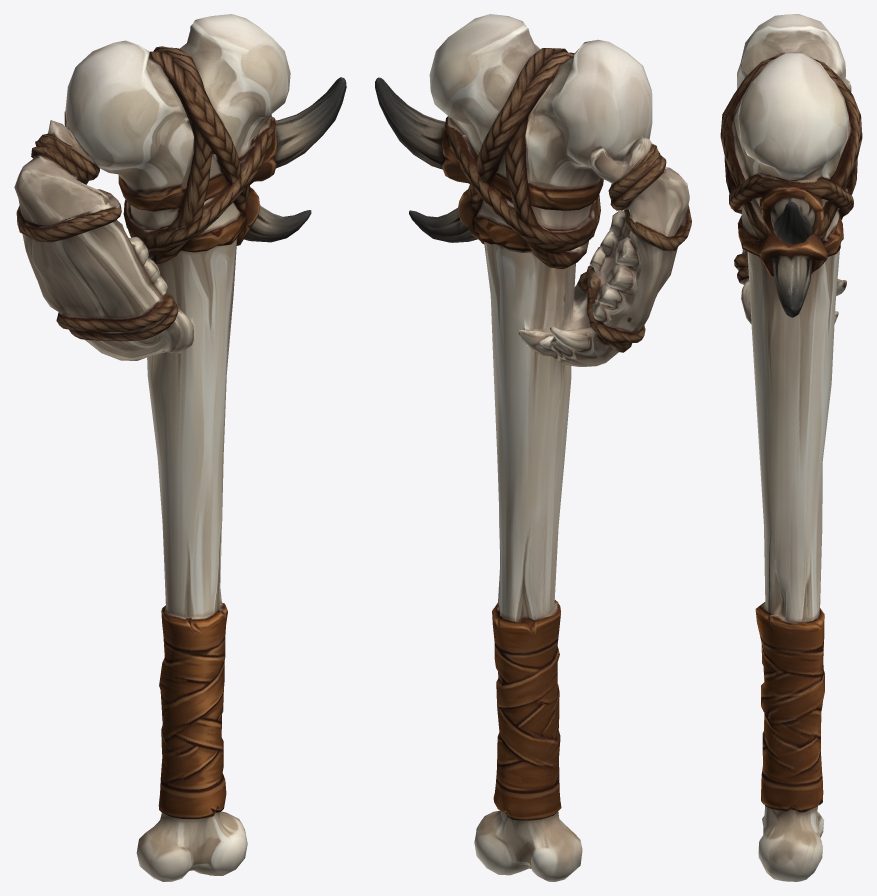
File: BoneClub.glb
3 renders of one model, left to right at view 1: azimuth 30°, elevation 25°; view 2: azimuth 150°, elevation 25°; view 3: azimuth 270°, elevation 25°, orthographic. The views are drawn at different scales.
Size of the model in its own units: 0.377 by 0.9512 by 0.1484.
Materials: 1 (1 with a texture image).
